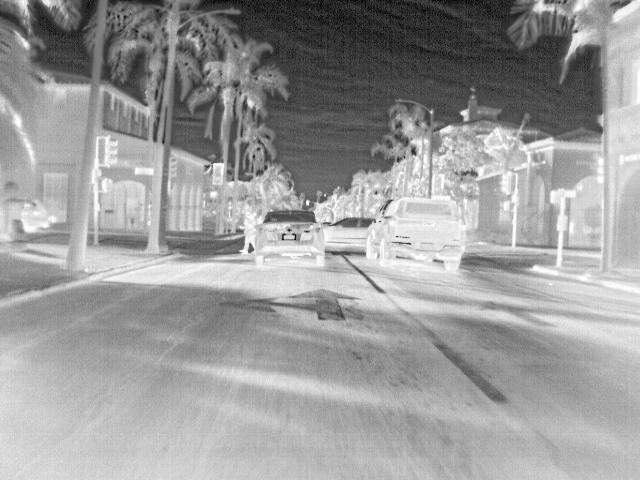car: (363, 196, 467, 273), (255, 209, 327, 266), (325, 214, 367, 248), (21, 202, 52, 234)
person: (238, 209, 256, 258)
